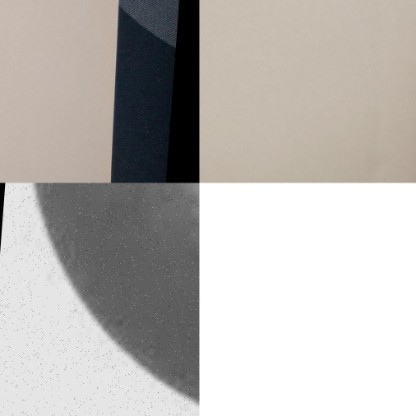ironball: (0, 182, 199, 415)
